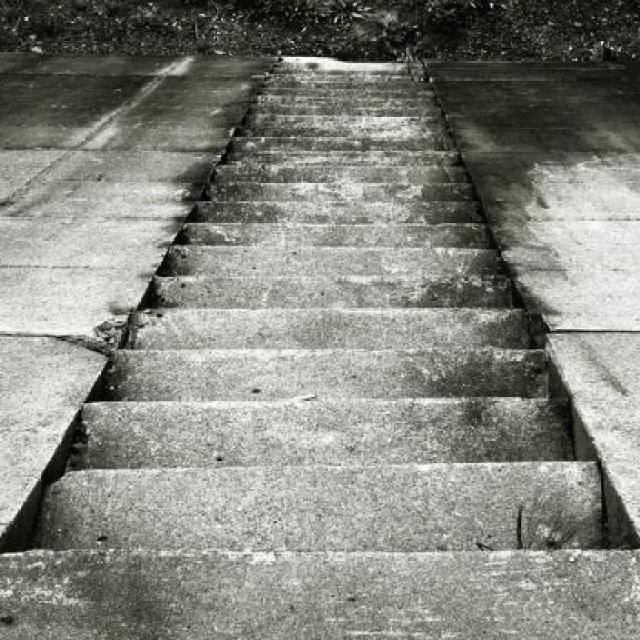stair: (79, 46, 538, 640)
